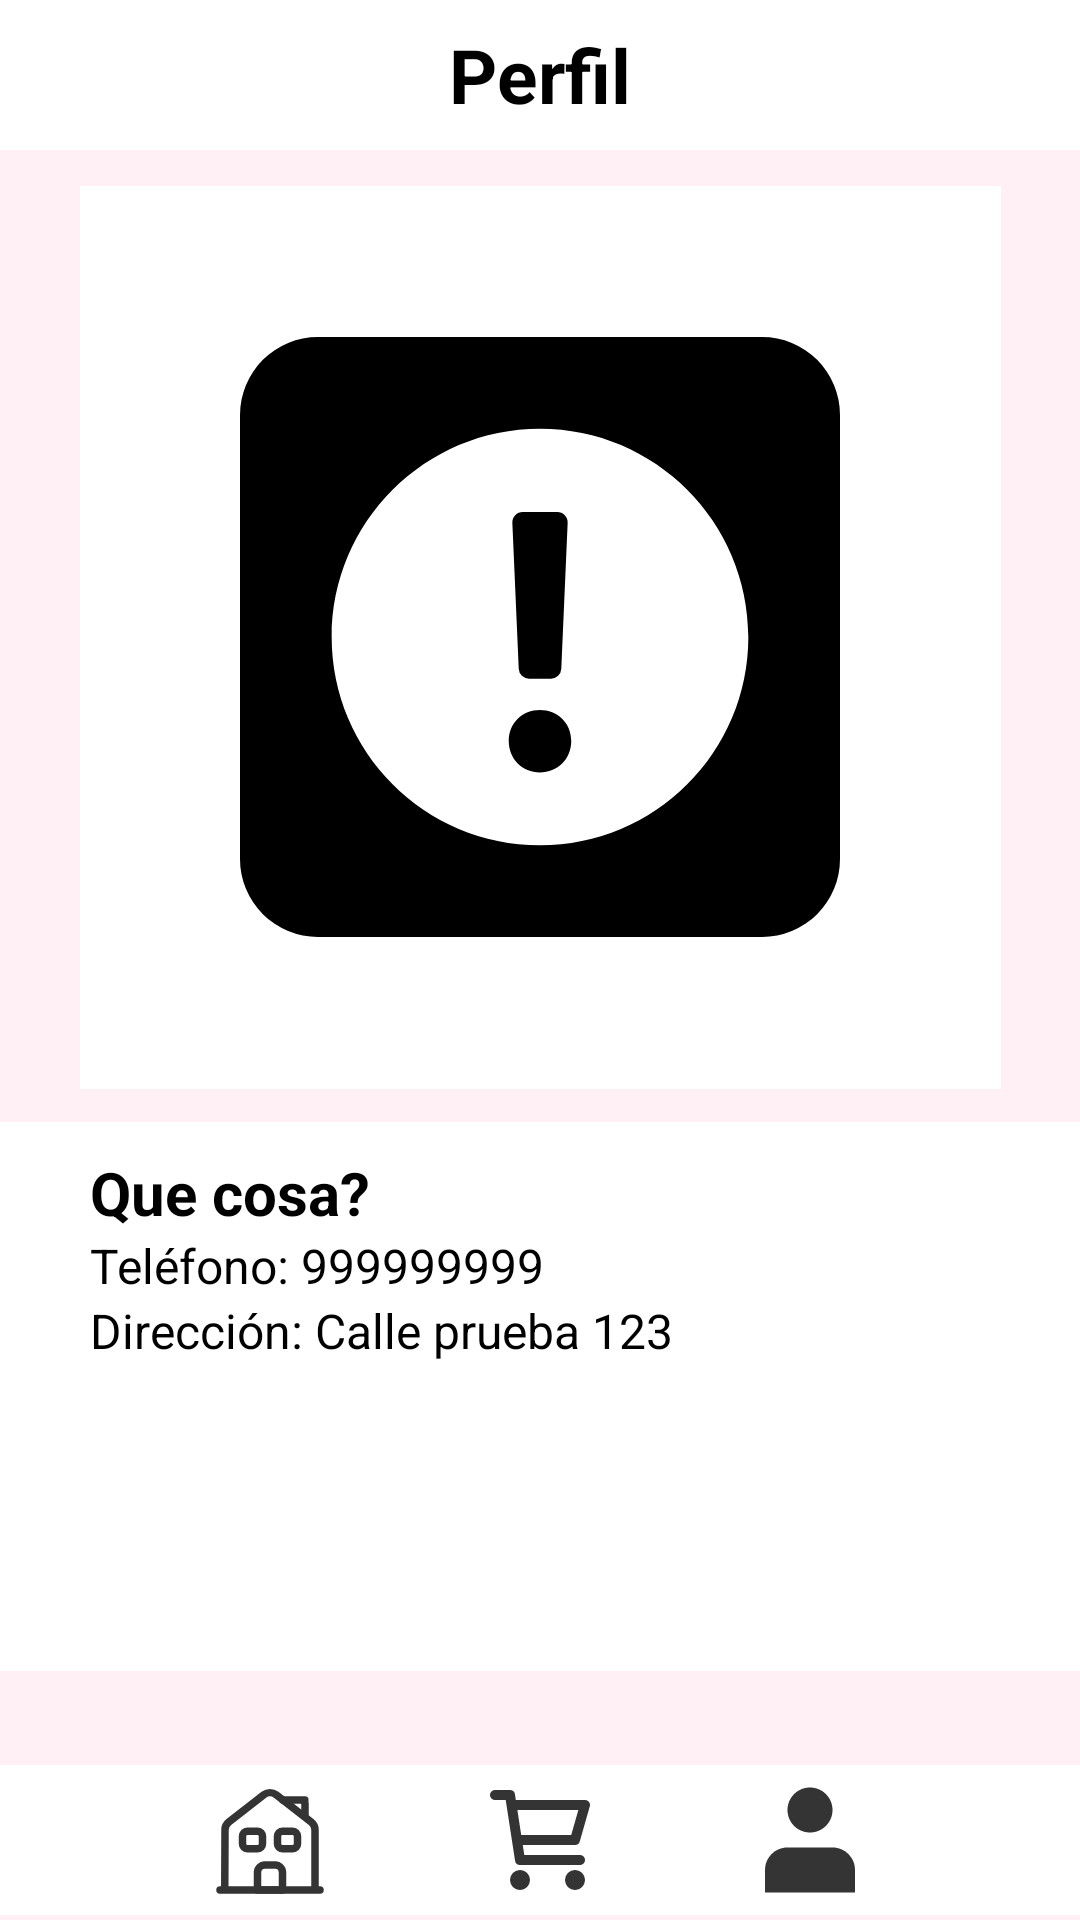

Icon click points for this 1080px x 1920px phone screenshot, format (x,y):
Cart: (540,1840)
Home: (270,1841)
Profile: (810,1840)
